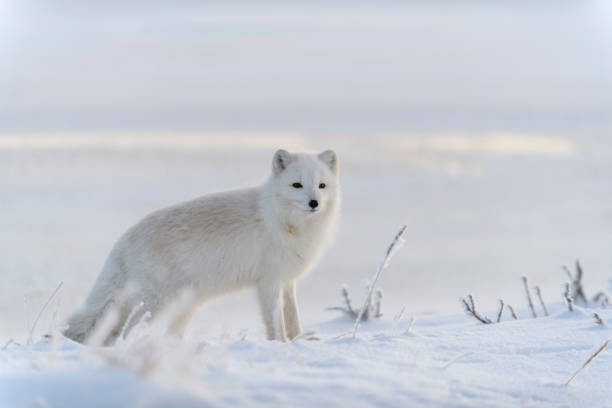arcticfox: (278, 153, 346, 229)
